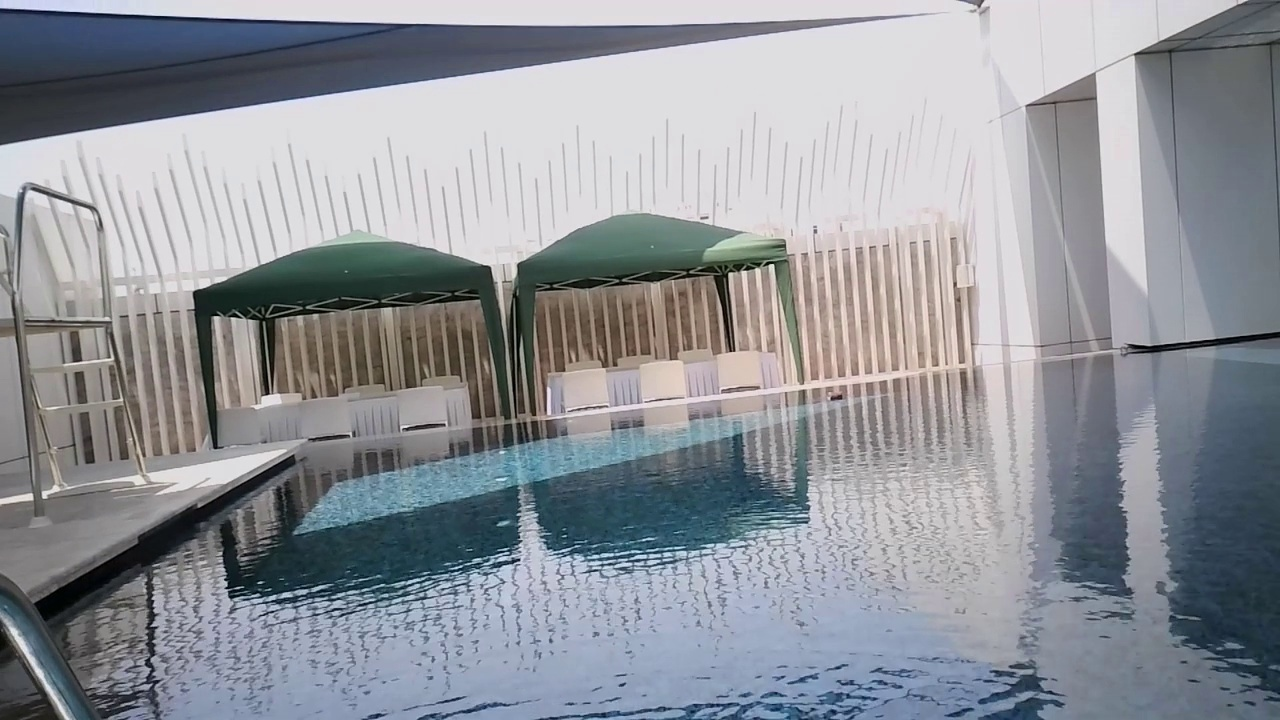debris: (1117, 340, 1137, 358), (824, 387, 844, 404)
